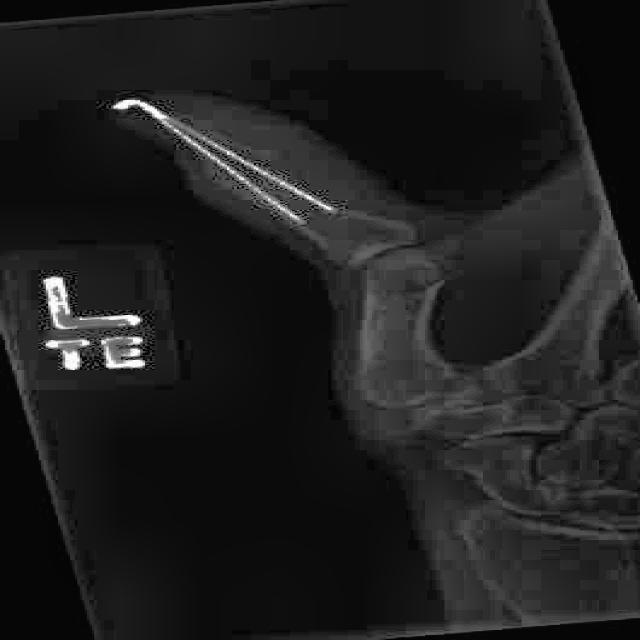fingers positive: (199, 149, 320, 203)
